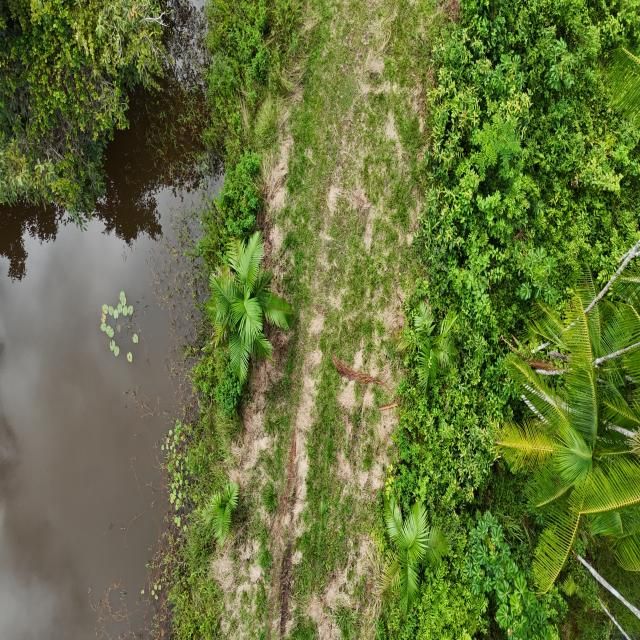vegetation: (204, 229, 292, 387)
